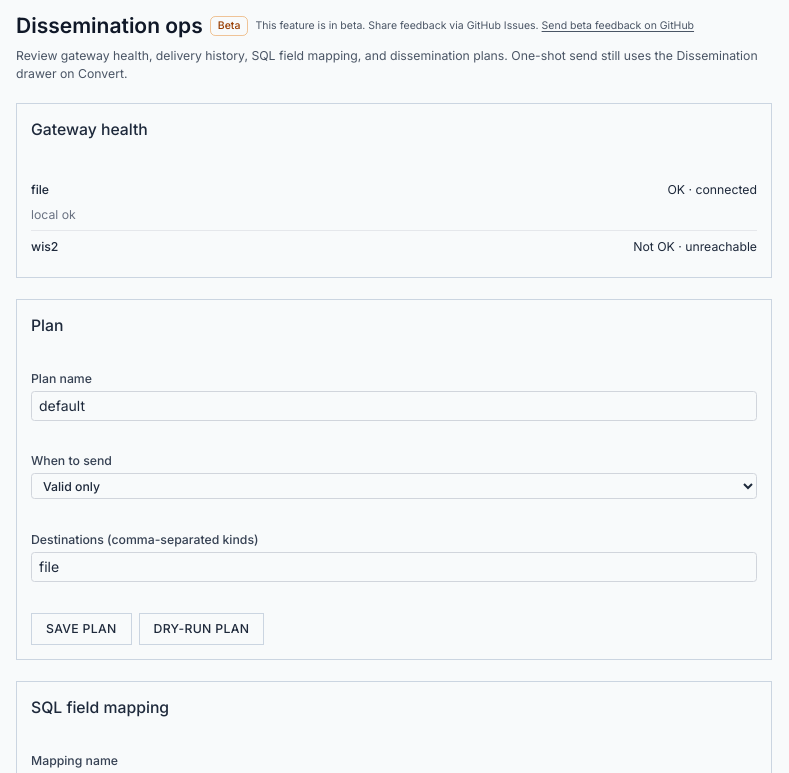
DisseminationOpsPage › shows plan save and dry-run errors
Click the button with test id "plan-save".
click(81, 629)  # box [31,613,132,644]
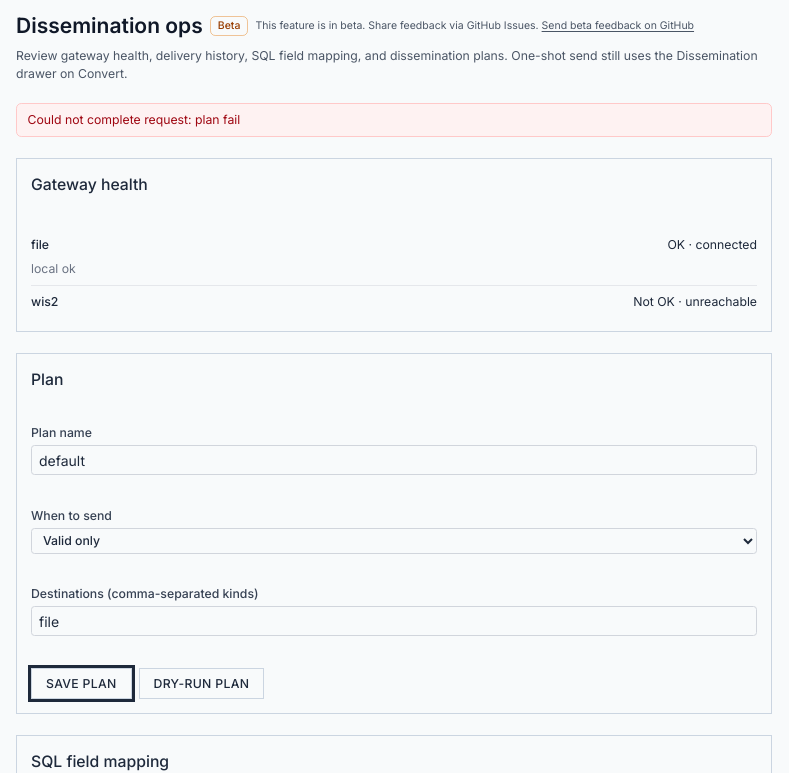
Check: the message with test id "dissemination-ops-error" shows "plan fail", box [28,112,240,127]
Click the button with test id "plan-save".
click(81, 683)  # box [31,668,132,699]
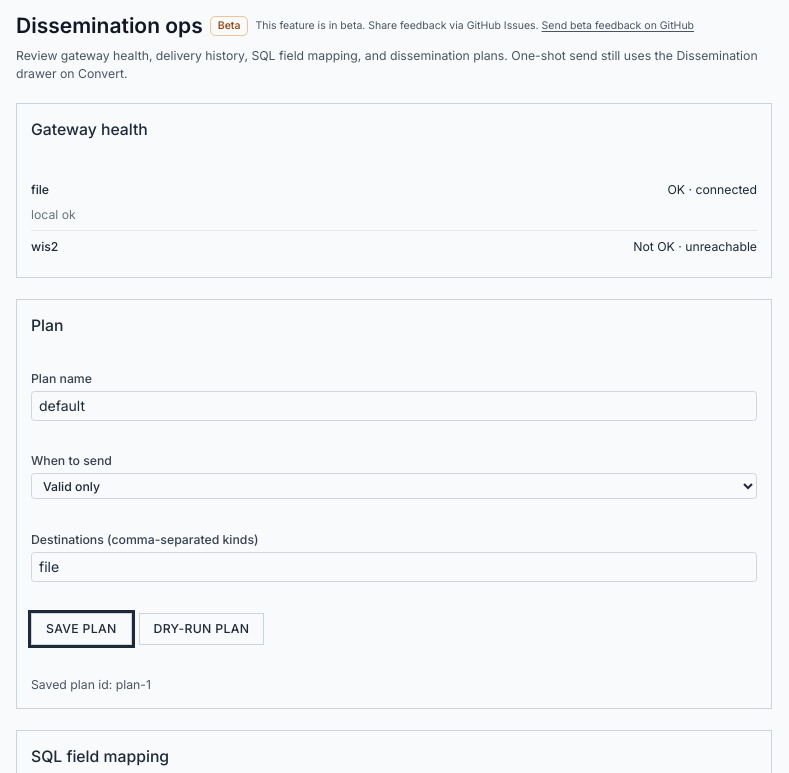
Check: the text "Saved plan id: plan-1" is shown, box [31,677,151,692]
Click the button with test id "plan-dry-run".
click(201, 629)  # box [138,613,264,644]
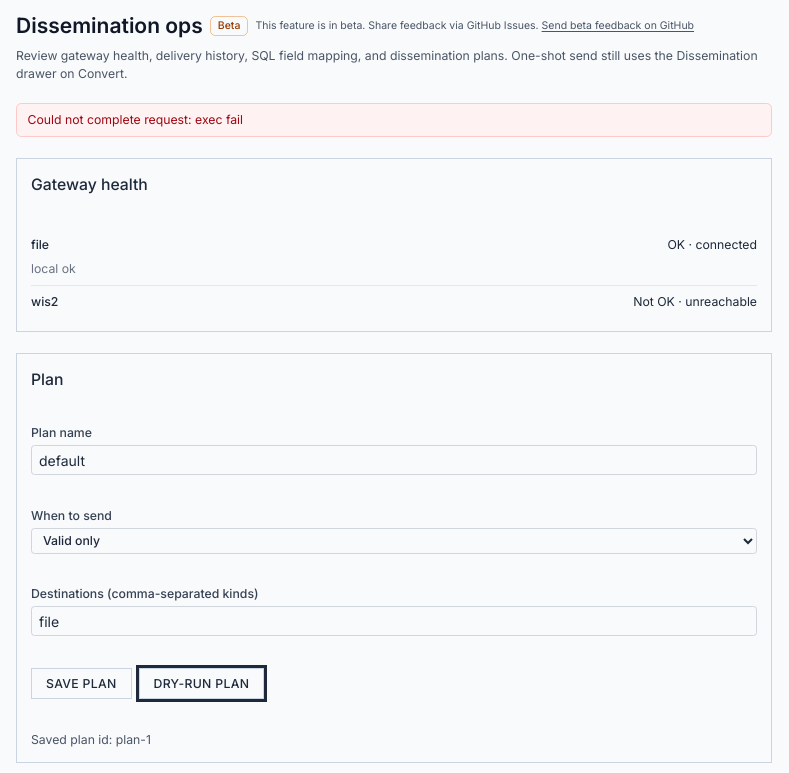
Check: the message with test id "dissemination-ops-error" shows "exec fail", box [28,112,243,127]
